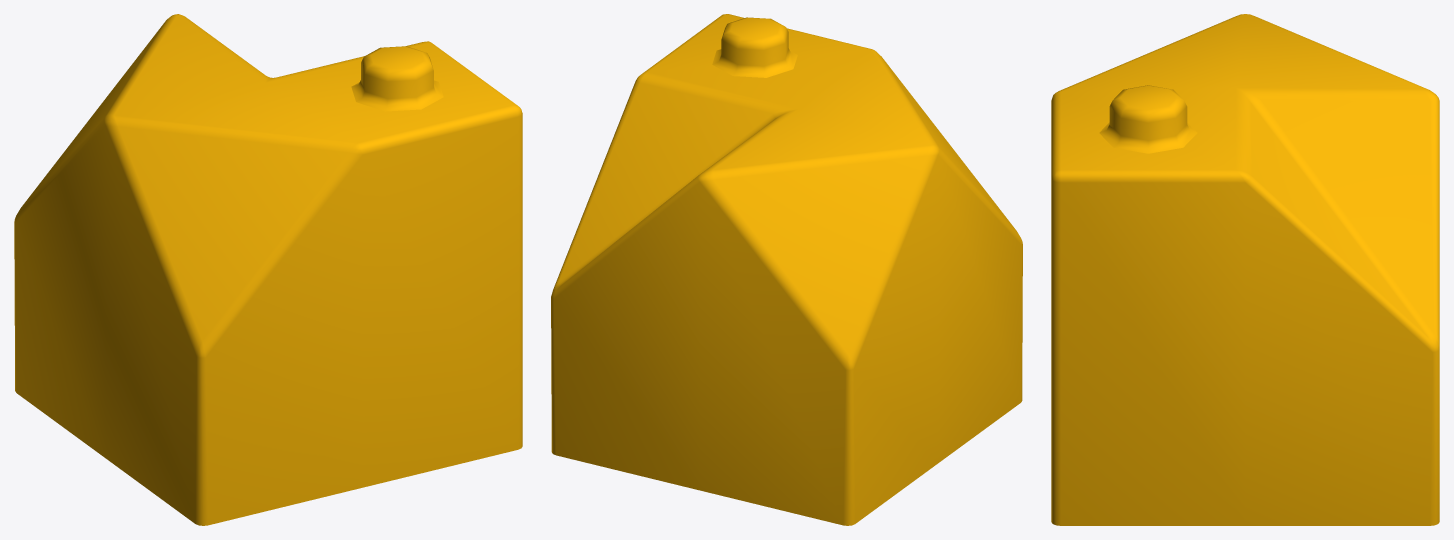
Rendered from Lowered_Corner_Two_Vertex_Bevels_Parallel.fbx.
3 renders of one model, left to right at view 1: azimuth 30°, elevation 25°; view 2: azimuth 150°, elevation 25°; view 3: azimuth 270°, elevation 25°, orthographic. The views are drawn at different scales.
Visible parts, largest first — view 1: Lowered_Corner_Two_Vertex_Bevels_Parallel, Knobs.008; view 2: Lowered_Corner_Two_Vertex_Bevels_Parallel, Knobs.008; view 3: Lowered_Corner_Two_Vertex_Bevels_Parallel, Knobs.008.
Boxes of the visible parts, x1=… form: Lowered_Corner_Two_Vertex_Bevels_Parallel: x1=14, y1=14, x2=522, y2=525; Knobs.008: x1=351, y1=46, x2=443, y2=111; Lowered_Corner_Two_Vertex_Bevels_Parallel: x1=551, y1=14, x2=1022, y2=525; Knobs.008: x1=712, y1=17, x2=797, y2=77; Lowered_Corner_Two_Vertex_Bevels_Parallel: x1=1051, y1=14, x2=1439, y2=525; Knobs.008: x1=1099, y1=85, x2=1197, y2=153.
Bounding box in the file's own units: 1 × 1.1 × 1.
